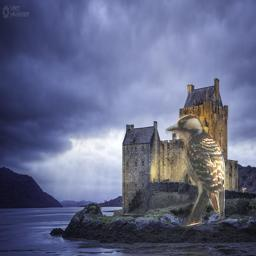Woodpecker: (165, 114, 225, 226)
